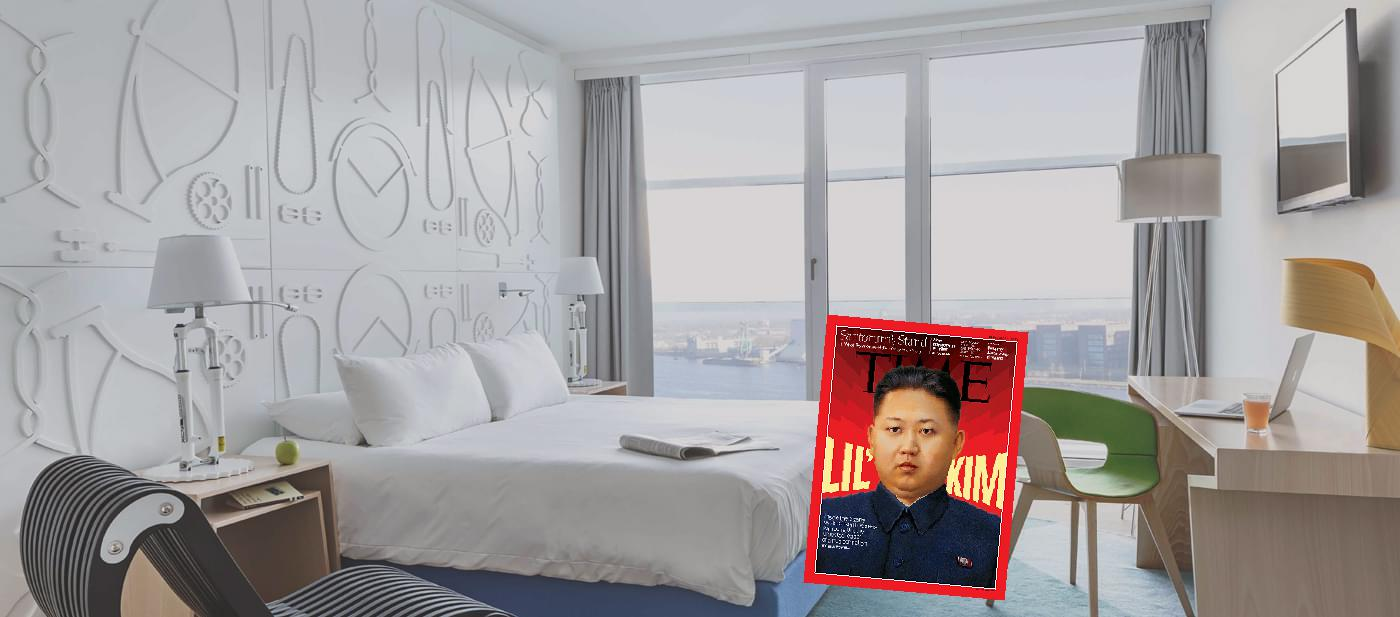times: (802, 310, 1034, 603)
